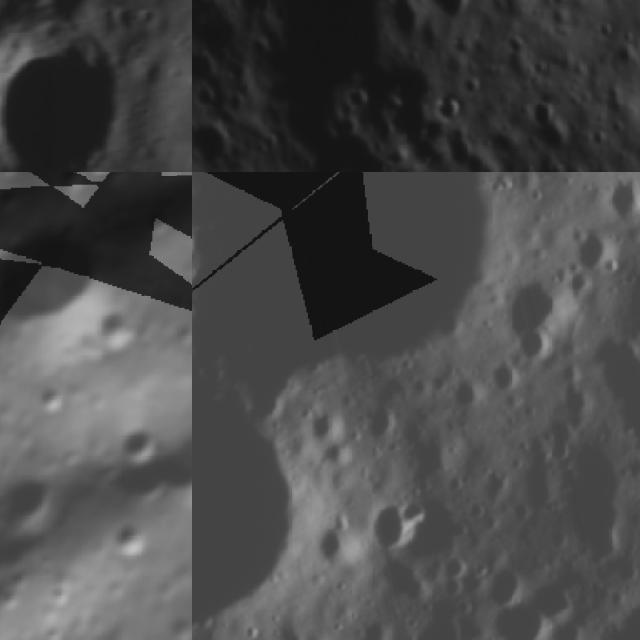crater: (192, 309, 448, 640), (192, 172, 522, 387), (0, 195, 133, 370), (257, 0, 414, 119), (0, 38, 129, 172), (500, 264, 585, 340), (374, 65, 434, 150), (566, 217, 634, 285), (390, 593, 483, 640), (306, 513, 372, 578), (359, 493, 425, 557), (143, 421, 192, 504), (0, 467, 60, 534), (115, 408, 173, 469), (98, 514, 156, 572), (134, 192, 189, 250), (527, 90, 571, 162), (476, 556, 532, 612), (432, 366, 488, 421), (527, 572, 581, 628), (299, 396, 352, 451), (91, 300, 142, 352), (18, 0, 106, 30), (482, 349, 531, 396), (360, 403, 407, 451), (313, 432, 361, 476), (601, 172, 640, 224), (192, 125, 235, 171), (543, 610, 592, 640), (345, 151, 402, 172), (64, 172, 133, 188), (426, 0, 470, 22), (295, 157, 354, 172)
